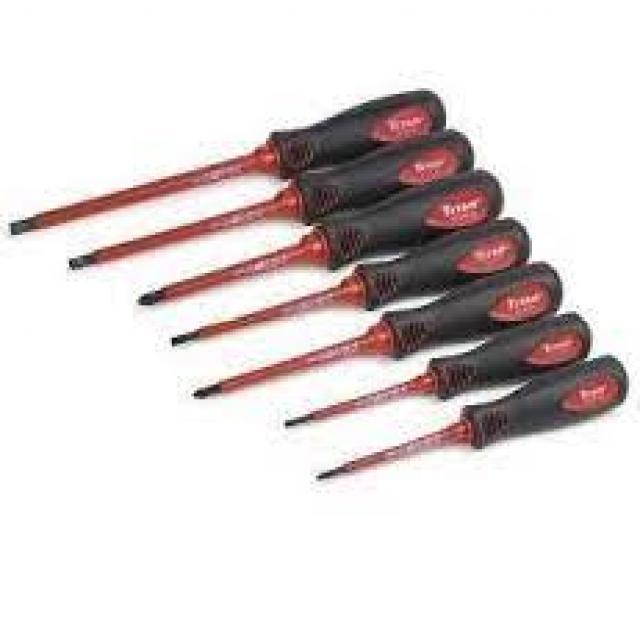screwdriver: (8, 86, 449, 242), (58, 126, 479, 276), (186, 255, 570, 410), (128, 168, 512, 312), (164, 218, 534, 352), (305, 351, 629, 492), (278, 307, 597, 436)
